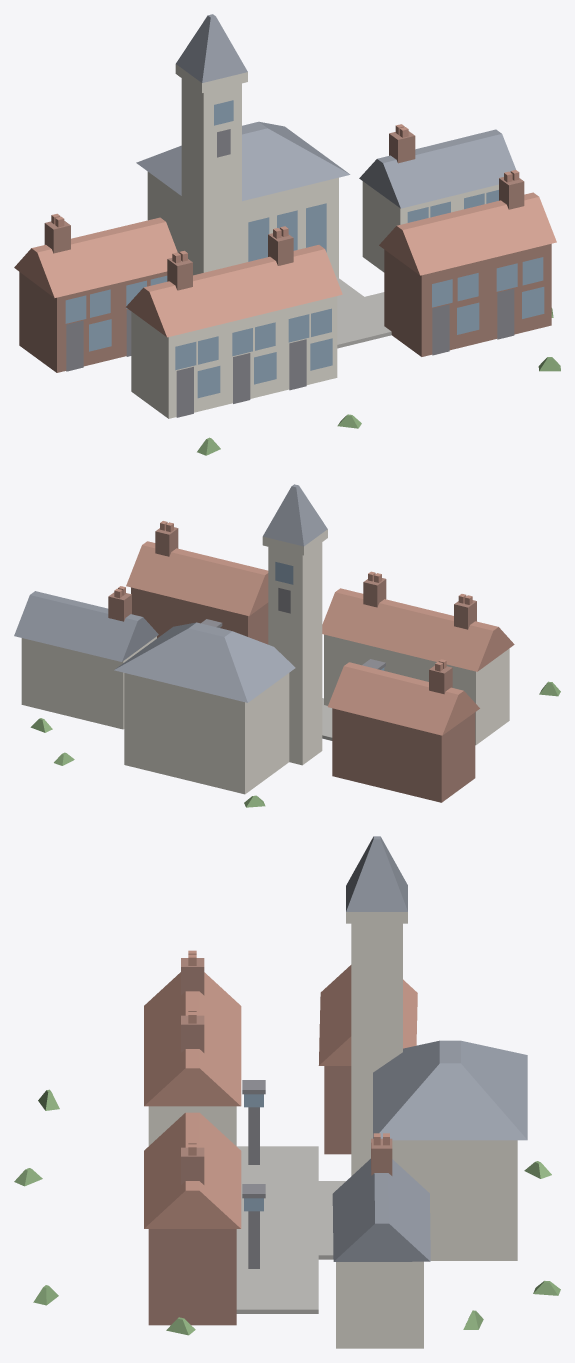
The model's file is City.fbx.
3 renders of one model, top to bottom at view 1: azimuth 30°, elevation 25°; view 2: azimuth 150°, elevation 25°; view 3: azimuth 270°, elevation 25°, orthographic. The views are drawn at different scales.
Parts seen in each view (by area): view 1: City; view 2: City; view 3: City.
Part boxes in pixels (x1=…): City: x1=14, y1=14, x2=560, y2=455; City: x1=14, y1=484, x2=560, y2=807; City: x1=14, y1=836, x2=560, y2=1348.
Bounding box in the file's own units: 1.09 × 0.657 × 0.9337.
